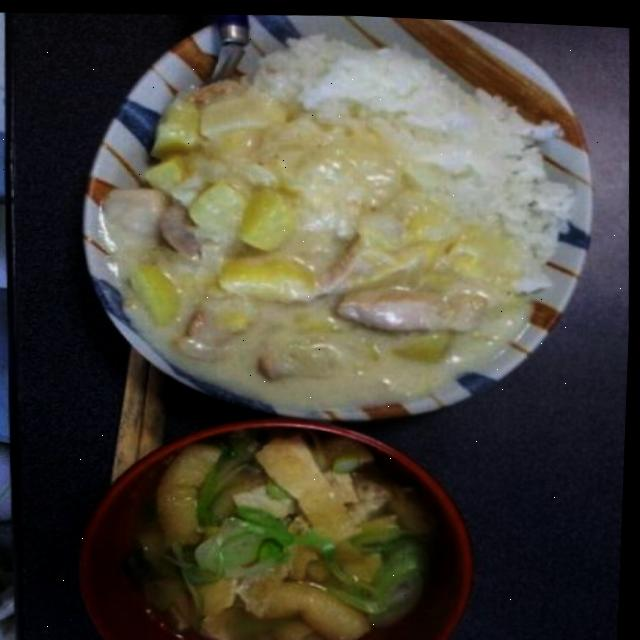米饭主食: (249, 25, 586, 292)
